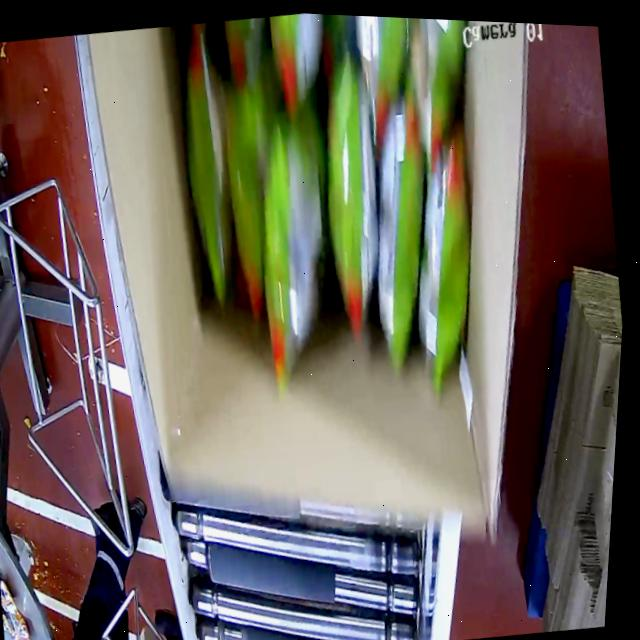YOGURT_HERB: (140, 7, 537, 407)
